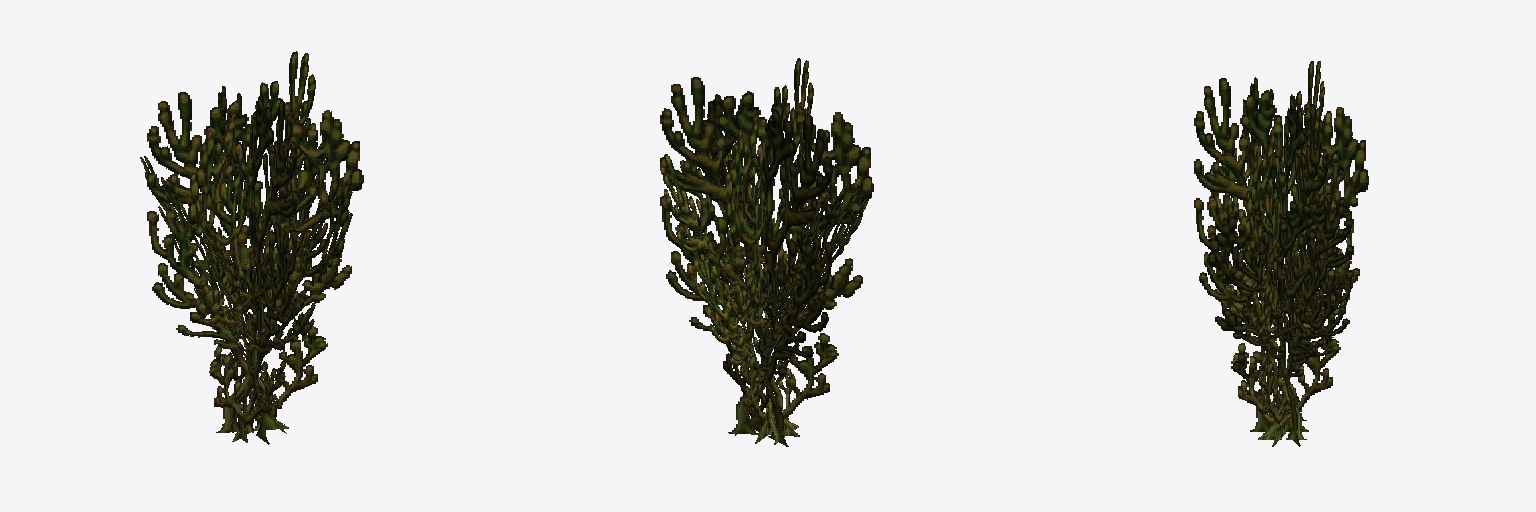
3 views of the same model, side by side, from view 1: azimuth 30°, elevation 25°; view 2: azimuth 150°, elevation 25°; view 3: azimuth 270°, elevation 25° (orthographic).
Parts seen in each view (by area): view 1: object 1; view 2: object 1; view 3: object 1.
Boxes of the visible parts, x1=… form: object 1: x1=140, y1=51, x2=363, y2=444; object 1: x1=660, y1=58, x2=873, y2=446; object 1: x1=1194, y1=61, x2=1368, y2=446.
Bounding box in the file's own units: 2.8 × 4.62 × 2.39.
Materials: 1 (1 with a texture image).